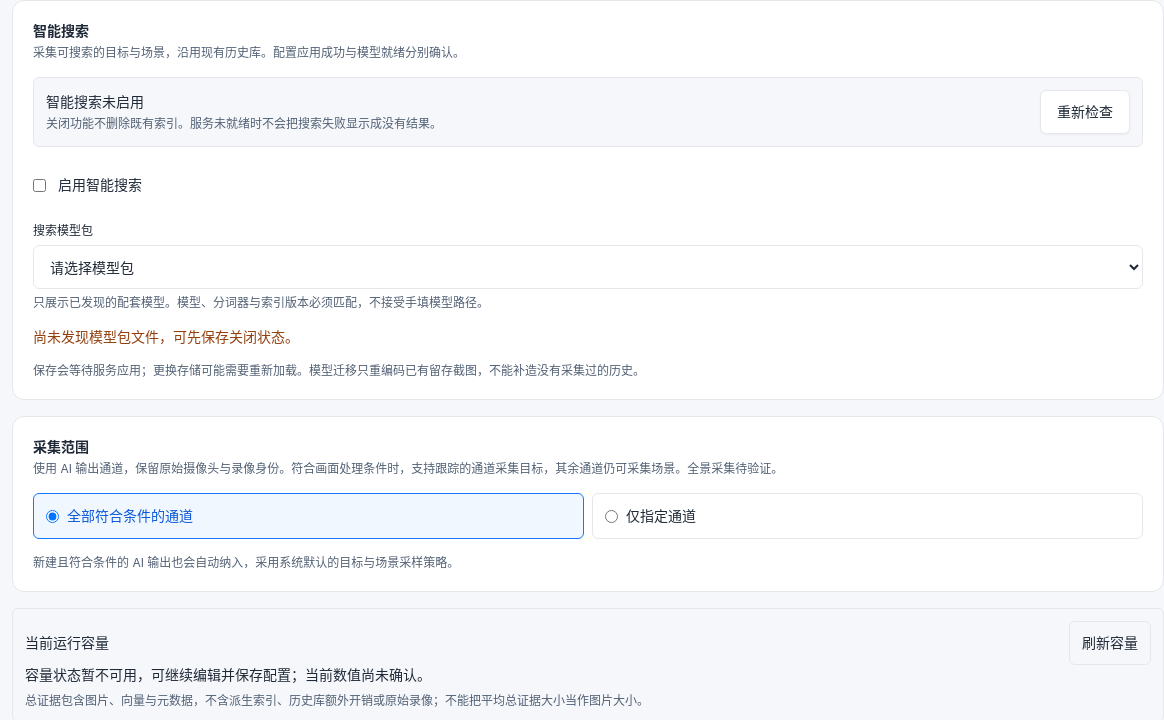
Scenario: 智能搜索配置 › removes the unsaved flag when an operator reverts the draft
Expected: the text "智能搜索未启用" is shown, [46,93,144,110]
Click the checkbox labelled "启用智能搜索": [40, 185] box [33,178,46,192]
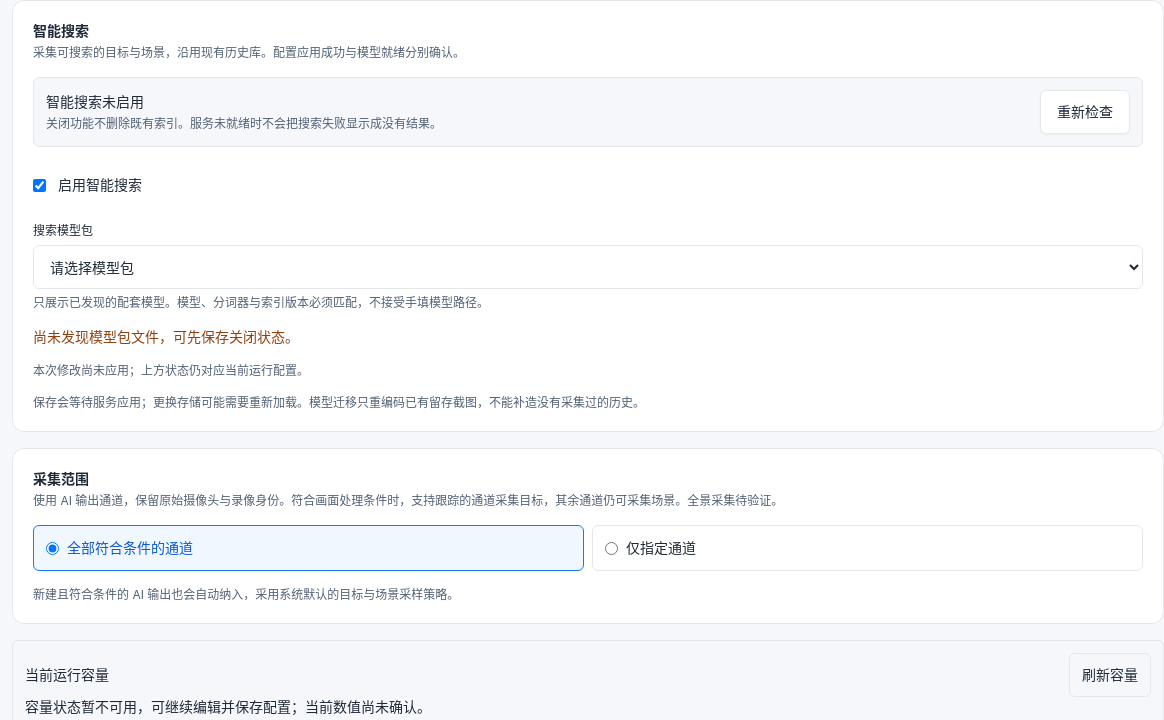
Click the checkbox labelled "启用智能搜索": [40, 185] box [33,178,46,192]
(page scrolled)
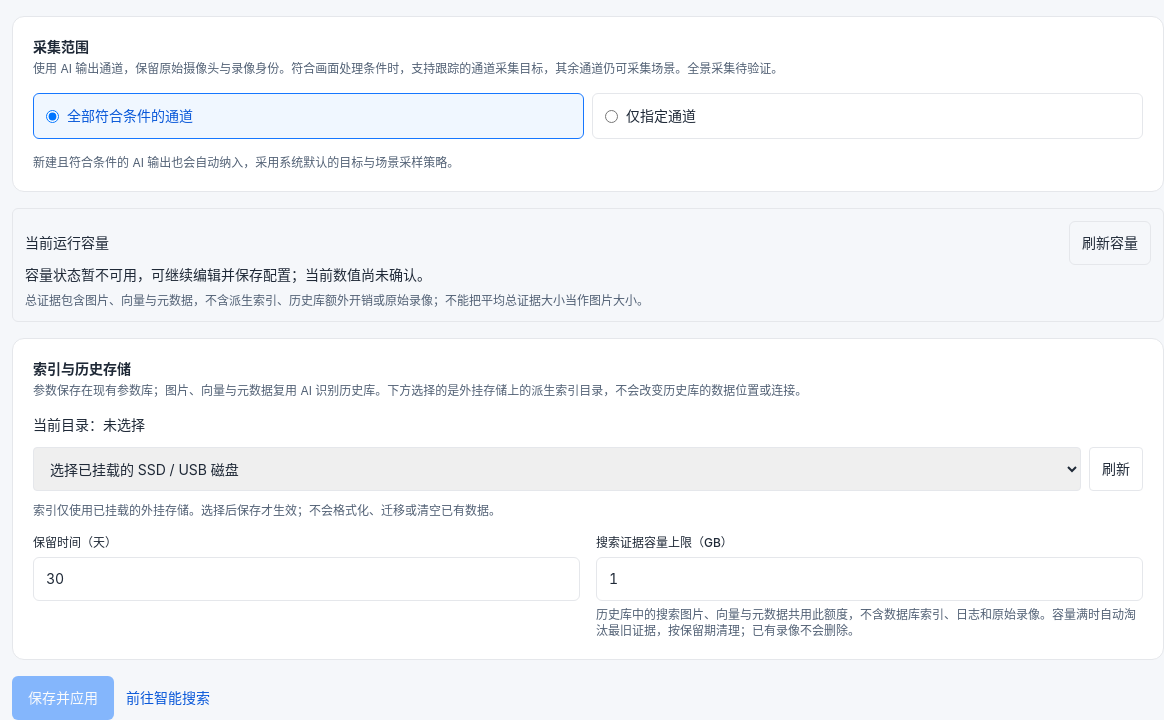
Now the button "保存并应用" is disabled, box [12,676,114,719]
